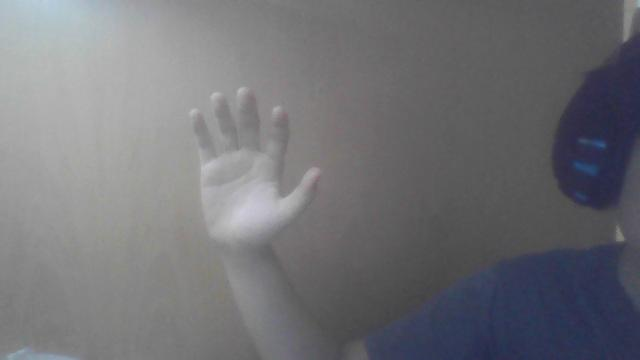Stop: (189, 93, 325, 246)
